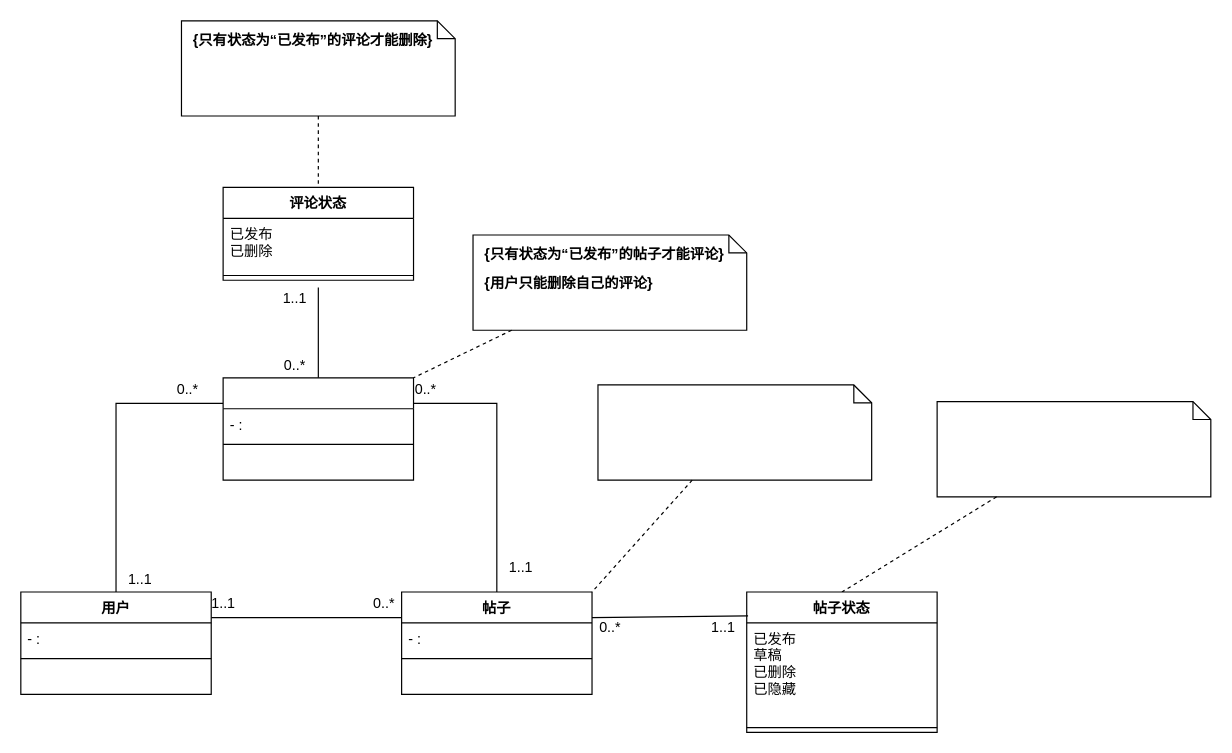
This 1232x753 diagram has some shape labels left out. The shapes that lost their labels are listed below. From the top down, each one's box as (x1, y1, x2, y2) in pixels, then its label:
(222, 377, 414, 480): 评论
(597, 384, 872, 480): {用户只能删除自己的帖子}
(936, 400, 1211, 497): {只有状态为“已发布”的帖子才能删除} {用户只能删除自己的帖子}
